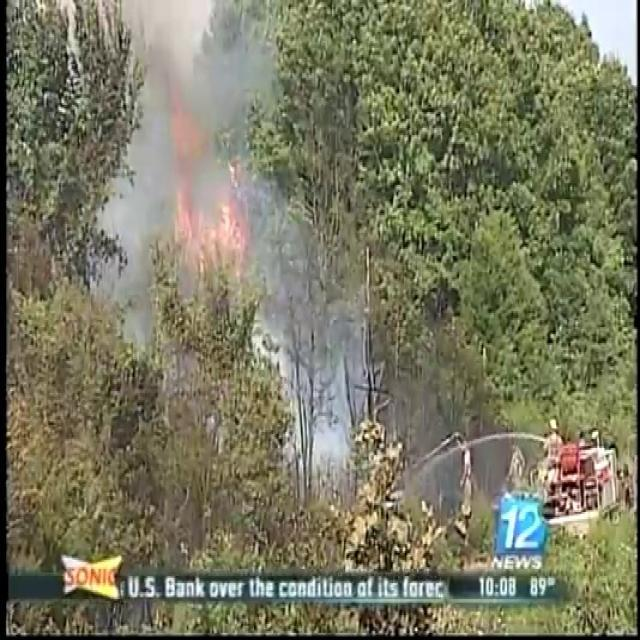Smoke: (96, 1, 282, 344), (270, 315, 355, 478)
